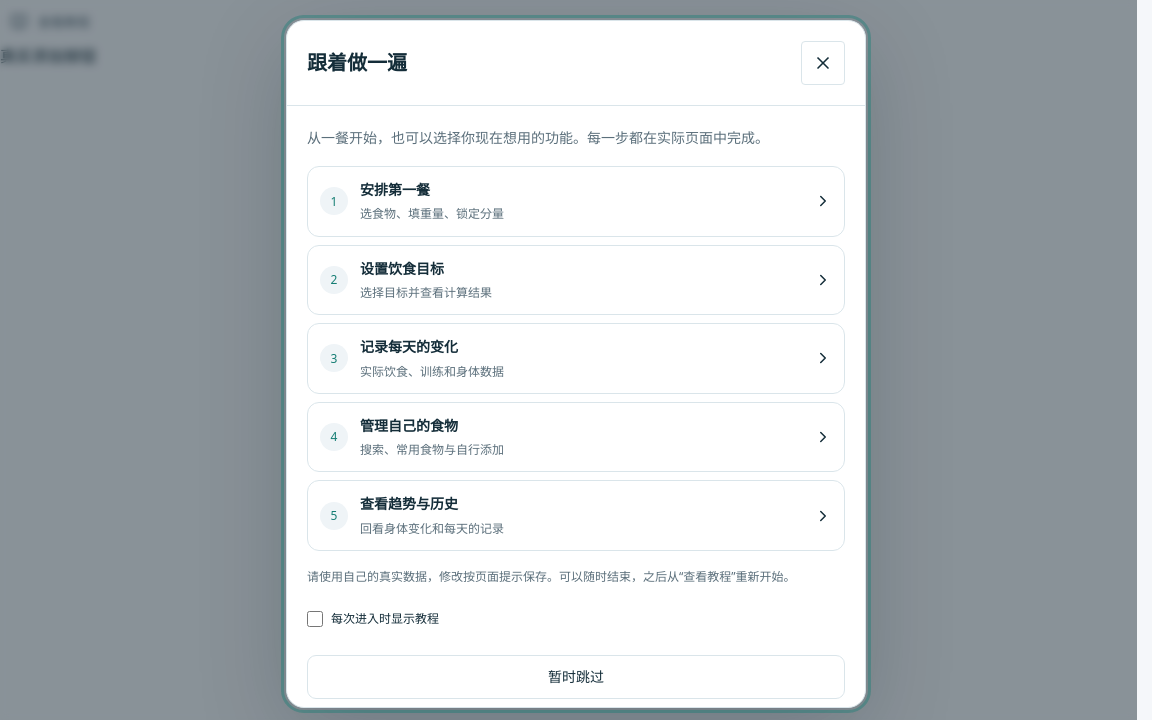
reports a failed preference write instead of claiming it was saved
Expected: the dialog is shown, [286,20,866,708]
What coordinates should you click on to do the following:
click the button "暂时跳过"
I would click on:
 (576, 677)
Its box is [307,655,845,699].
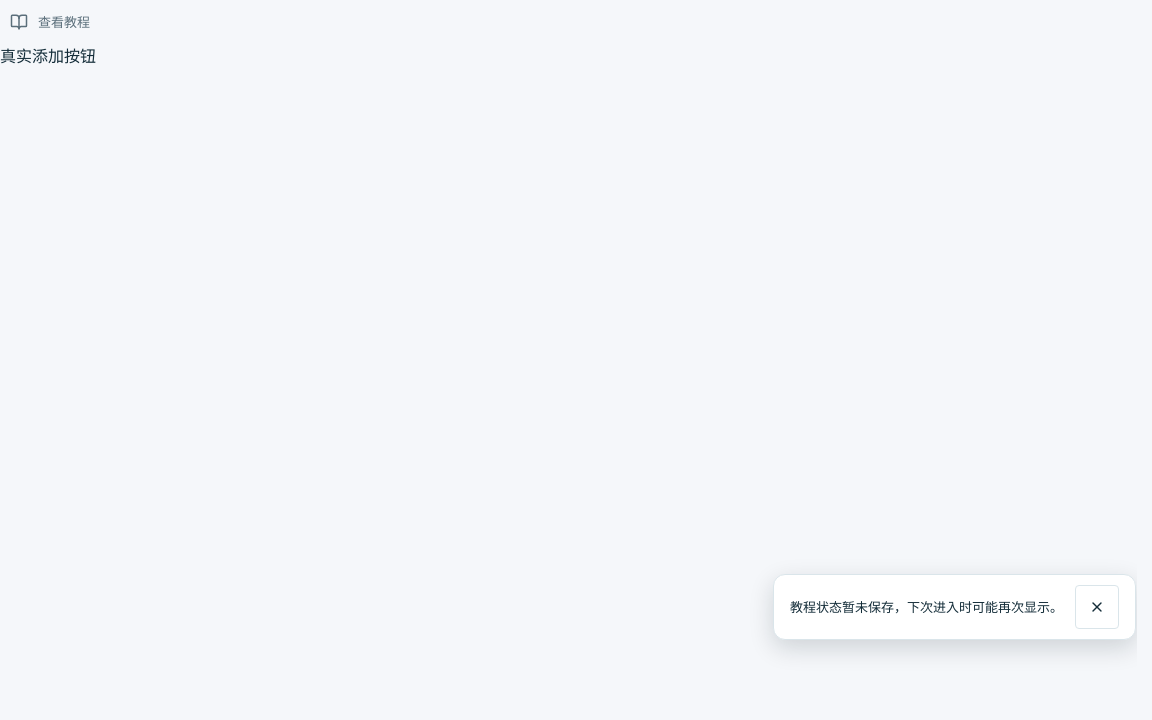
Now the text "教程状态暂未保存，下次进入时可能再次显示。" is shown, box [790,597,1063,617]
